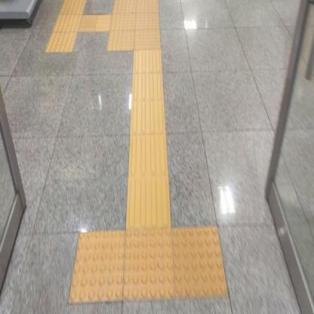Podoctatil: (68, 228, 224, 306), (126, 52, 169, 227), (48, 0, 83, 52), (80, 16, 109, 32)
